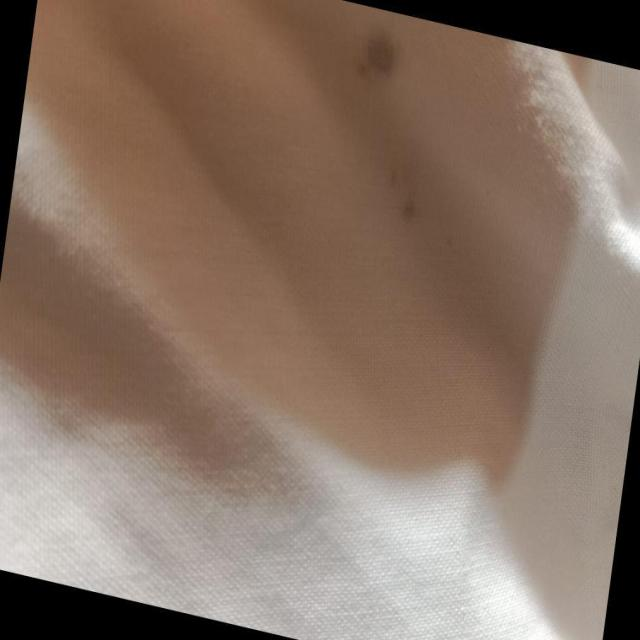stain: (371, 141, 436, 246), (346, 14, 407, 97)
